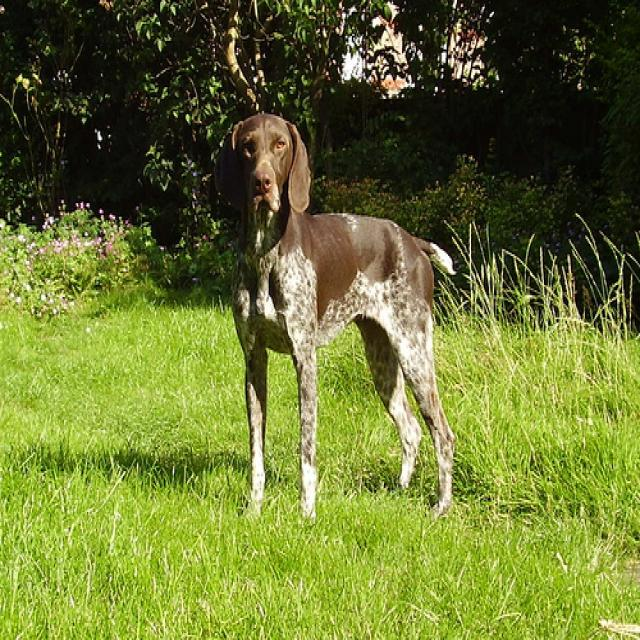dog: (212, 111, 308, 210)
